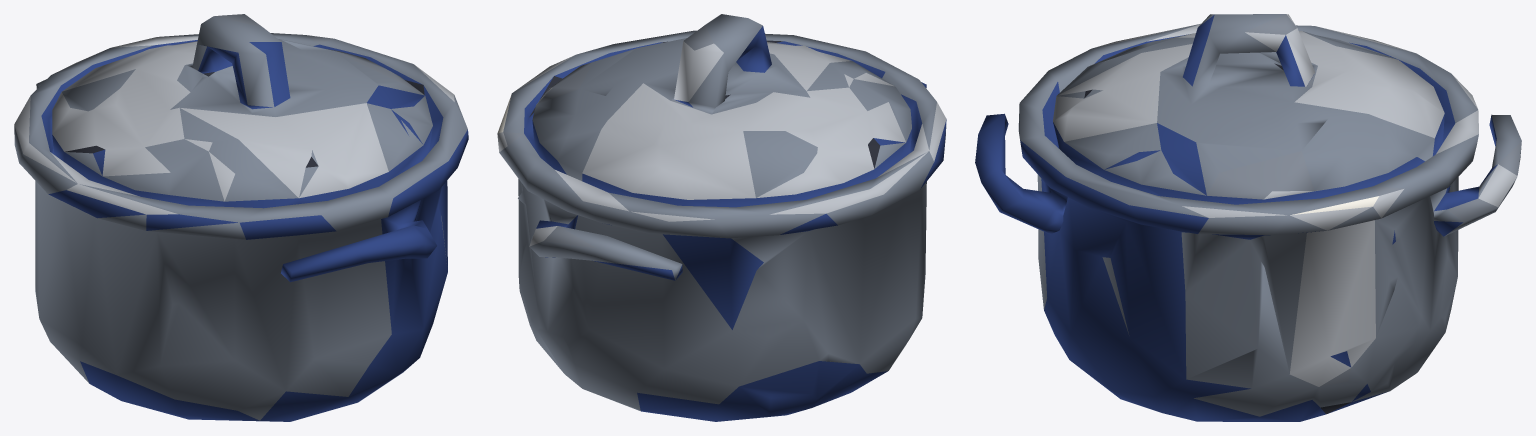
File: SM_pot_blue.fbx
The picture shows the model from 3 angles, left to right: view 1: azimuth 30°, elevation 25°; view 2: azimuth 150°, elevation 25°; view 3: azimuth 270°, elevation 25°; orthographic projection. The views are drawn at different scales.
Parts seen in each view (by area): view 1: SM_pot_blue; view 2: SM_pot_blue; view 3: SM_pot_blue.
Boxes of the visible parts, x1,y1,x2,y2 form: SM_pot_blue: [14, 14, 468, 421]; SM_pot_blue: [497, 14, 946, 421]; SM_pot_blue: [975, 14, 1521, 421].
Size of the model in its own units: 34.5 by 28 by 40.76.
Materials: 1 (1 with a texture image).
